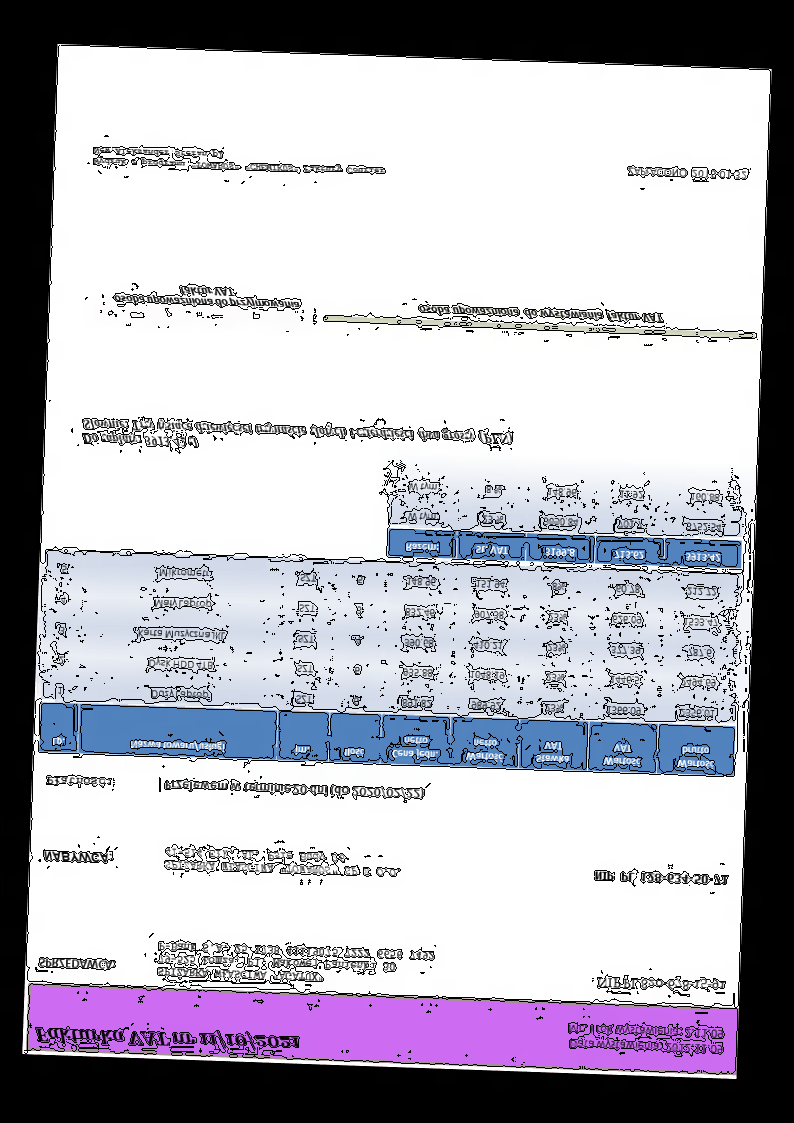Table: (36, 549, 742, 779), (386, 465, 745, 570)
TextBox: (79, 414, 515, 462), (153, 939, 436, 989), (89, 143, 388, 178), (161, 845, 404, 881), (32, 1024, 301, 1055), (162, 776, 426, 801), (416, 301, 667, 326), (111, 282, 301, 314), (564, 1022, 727, 1058), (592, 868, 729, 889), (593, 973, 726, 994), (624, 162, 749, 183), (36, 956, 117, 974), (44, 773, 114, 792), (41, 849, 114, 867)
